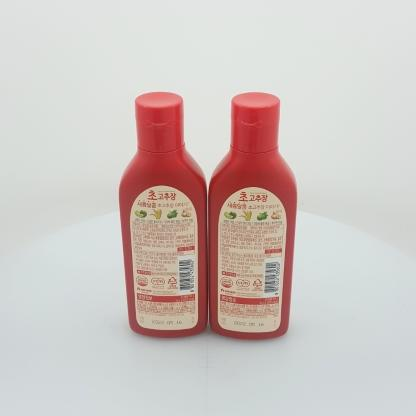---------: (208, 92, 298, 340), (119, 92, 207, 337)
